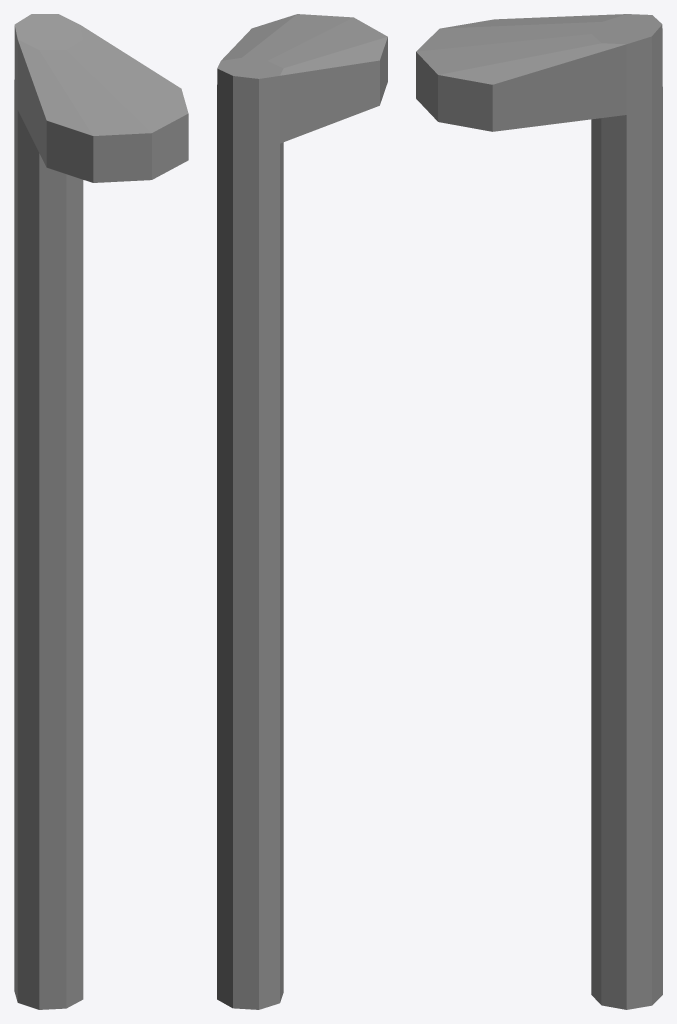
The model's file is light_(pole).001_metal_(scratched)_0_lev3.glb.
3 renders of one model, left to right at view 1: azimuth 30°, elevation 25°; view 2: azimuth 150°, elevation 25°; view 3: azimuth 270°, elevation 25°, orthographic. The views are drawn at different scales.
Parts seen in each view (by area): view 1: light_(pole).001_metal_(scratched)_0_lev3; view 2: light_(pole).001_metal_(scratched)_0_lev3; view 3: light_(pole).001_metal_(scratched)_0_lev3.
Part boxes in pixels (x1,y1,x2,y2): light_(pole).001_metal_(scratched)_0_lev3: [14, 14, 188, 1009]; light_(pole).001_metal_(scratched)_0_lev3: [217, 14, 387, 1009]; light_(pole).001_metal_(scratched)_0_lev3: [416, 14, 662, 1009].
Bounding box in the file's own units: 0.2148 × 1.48 × 0.342.
Materials: 1 (1 with a texture image).
